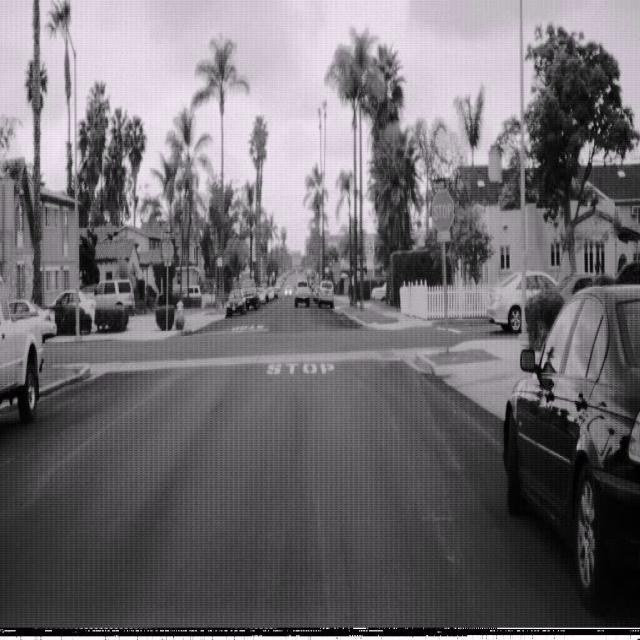stop_sign: (430, 188, 454, 233)
